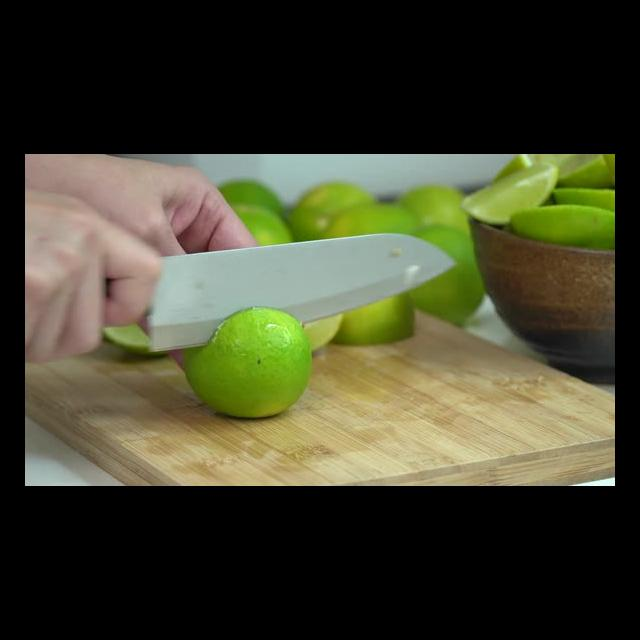lime: (169, 297, 316, 422), (320, 196, 436, 302), (391, 220, 491, 334), (286, 175, 391, 281), (194, 173, 292, 279), (202, 197, 298, 304), (397, 173, 480, 278)
